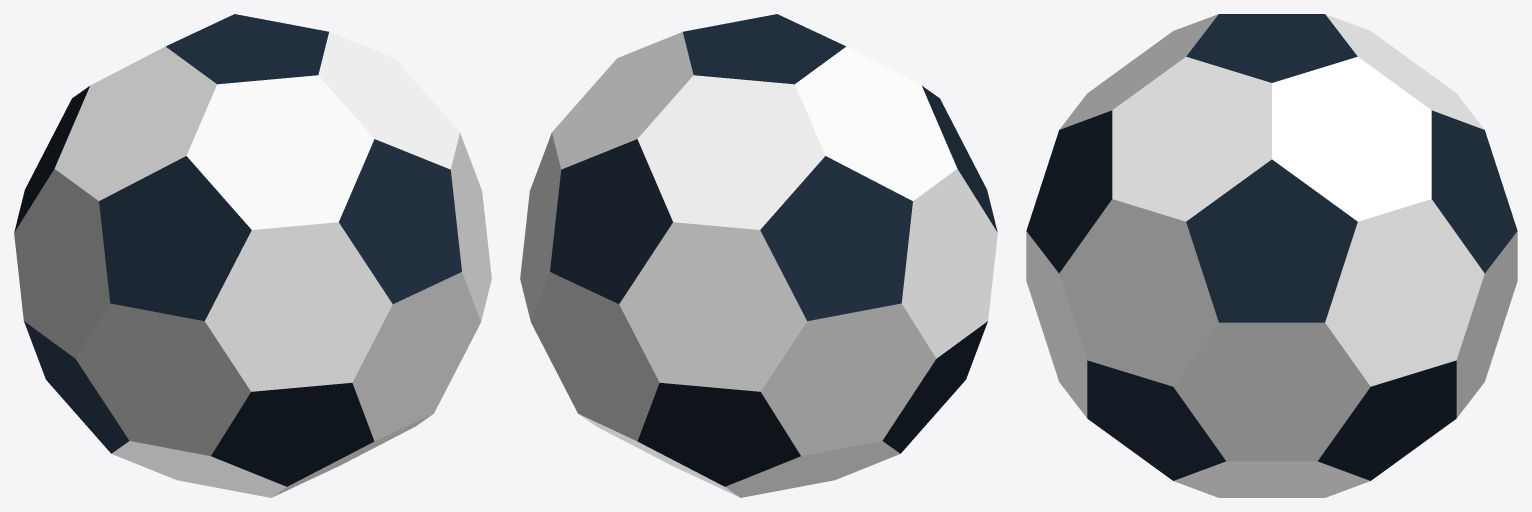
File: Ball.Soccer.fbx
3 renders of one model, left to right at view 1: azimuth 30°, elevation 25°; view 2: azimuth 150°, elevation 25°; view 3: azimuth 270°, elevation 25°, orthographic. The views are drawn at different scales.
Parts seen in each view (by area): view 1: Ball.Soccer; view 2: Ball.Soccer; view 3: Ball.Soccer.
Boxes of the visible parts, <box> form: Ball.Soccer: <box>14,14,491,497</box>; Ball.Soccer: <box>520,14,997,497</box>; Ball.Soccer: <box>1026,14,1517,497</box>.
Bounding box in the file's own units: 108 × 104 × 110.
